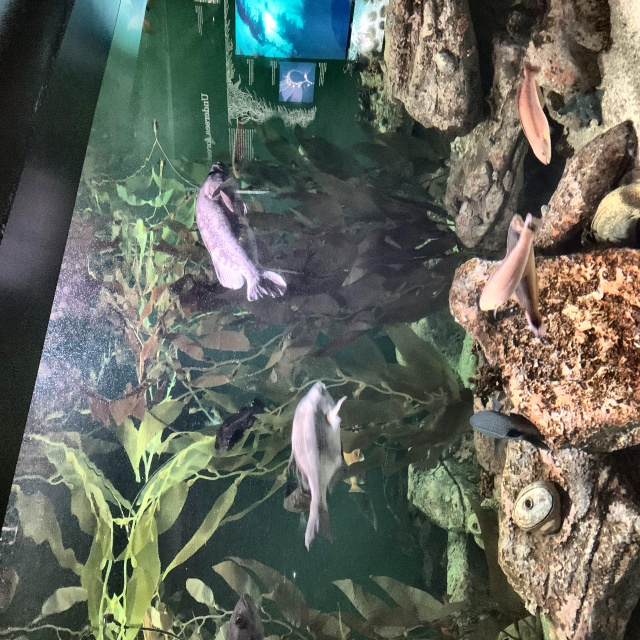fish: (192, 159, 288, 305), (284, 376, 350, 554), (476, 211, 543, 318), (504, 215, 548, 337), (514, 56, 557, 168), (470, 409, 551, 454), (210, 397, 267, 458), (223, 592, 281, 639)
